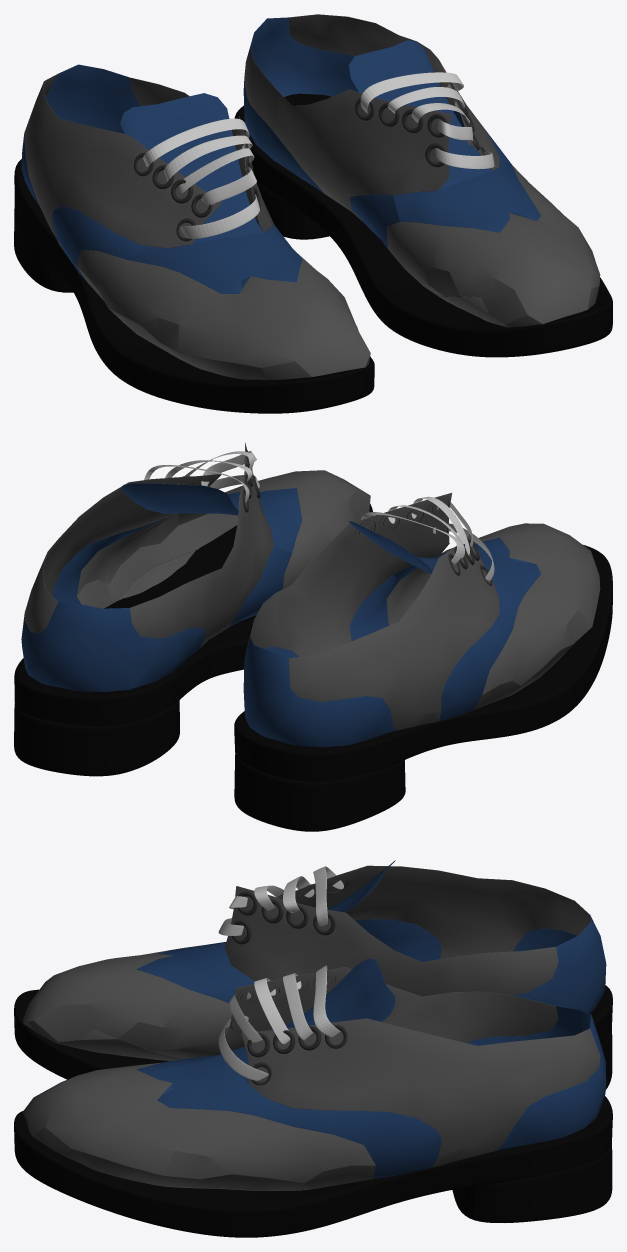
3 views of the same model, one above another, from view 1: azimuth 30°, elevation 25°; view 2: azimuth 150°, elevation 25°; view 3: azimuth 270°, elevation 25° (orthographic).
Visible parts, largest first — view 1: zapato2.001, zapato2, Plane, Plane.011, Plane.007, Plane.004, Plane.006, Plane.008, Plane.003, Plane.010, Plane.009, Plane.005; view 2: zapato2.001, zapato2, Plane.011, Plane, Plane.010; view 3: zapato2, zapato2.001, Plane, Plane.011, Plane.001, Plane.003, Plane.004, Plane.007, Plane.005, Plane.008, Plane.002.
Boxes of the visible parts, <box> form: zapato2.001: <box>21,64,370,379</box>; zapato2: <box>243,14,600,327</box>; Plane: <box>234,93,612,357</box>; Plane.011: <box>14,159,374,413</box>; Plane.007: <box>143,118,249,166</box>; Plane.004: <box>360,72,463,113</box>; Plane.006: <box>180,194,259,238</box>; Plane.008: <box>164,135,252,181</box>; Plane.003: <box>387,87,464,113</box>; Plane.010: <box>179,148,254,193</box>; Plane.009: <box>201,167,256,206</box>; Plane.005: <box>435,148,494,169</box>; zapato2.001: <box>243,493,600,747</box>; zapato2: <box>21,442,370,691</box>; Plane.011: <box>234,545,612,831</box>; Plane: <box>14,503,373,776</box>; Plane.010: <box>411,496,469,555</box>; zapato2: <box>23,958,606,1190</box>; zapato2.001: <box>23,860,606,1060</box>; Plane: <box>14,1096,612,1237</box>; Plane.011: <box>14,985,612,1089</box>; Plane.001: <box>254,978,290,1044</box>; Plane.003: <box>283,973,312,1040</box>; Plane.004: <box>313,965,340,1037</box>; Plane.007: <box>313,866,343,926</box>; Plane.005: <box>218,1016,268,1080</box>; Plane.008: <box>283,876,314,913</box>; Plane.002: <box>229,992,262,1042</box>.
Size of the model in its own units: 390 by 176 by 447.
